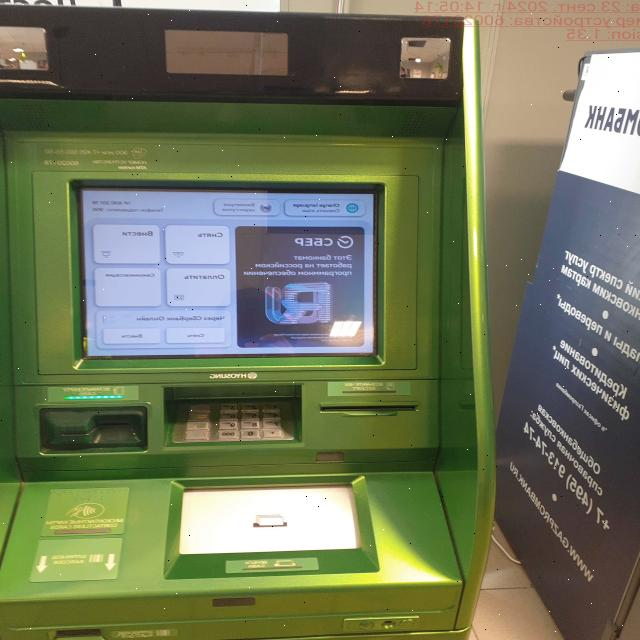bank: (0, 15, 501, 640)
